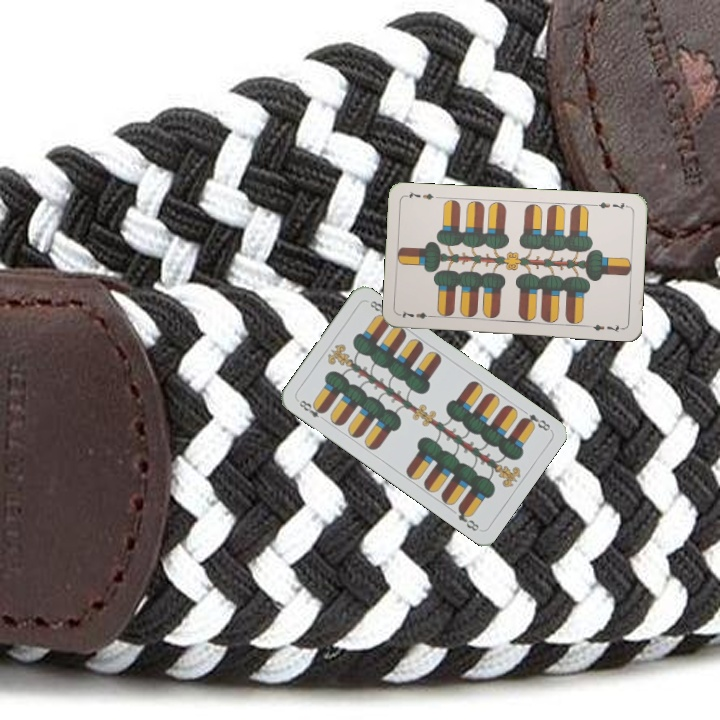E7: (591, 198, 631, 212), (397, 307, 437, 321)
E8: (518, 410, 553, 434), (294, 396, 328, 420)
